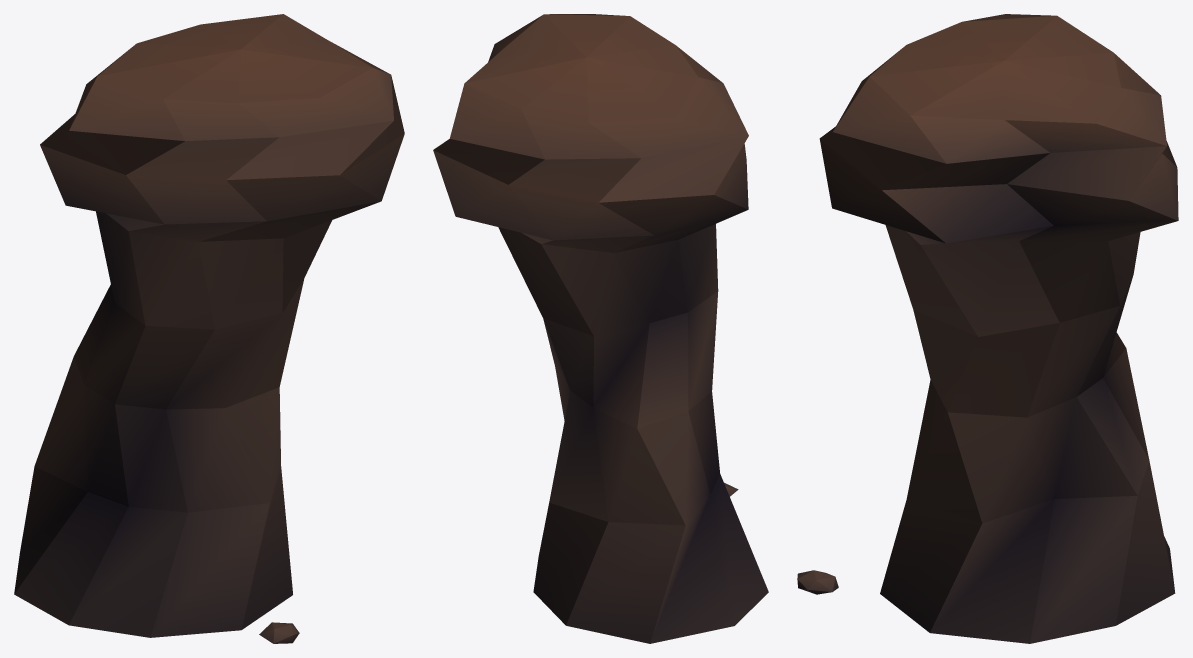
File: eroded.lod1.glb
3 renders of one model, left to right at view 1: azimuth 30°, elevation 25°; view 2: azimuth 150°, elevation 25°; view 3: azimuth 270°, elevation 25°, orthographic. The views are drawn at different scales.
Visible parts, largest first — view 1: eroded_s1_lod1; view 2: eroded_s1_lod1; view 3: eroded_s1_lod1.
Part boxes in pixels (x1=…): eroded_s1_lod1: x1=14, y1=14, x2=404, y2=643; eroded_s1_lod1: x1=433, y1=14, x2=768, y2=643; eroded_s1_lod1: x1=797, y1=14, x2=1178, y2=643.
Bounding box in the file's own units: 2.01 × 3.2 × 1.96.
